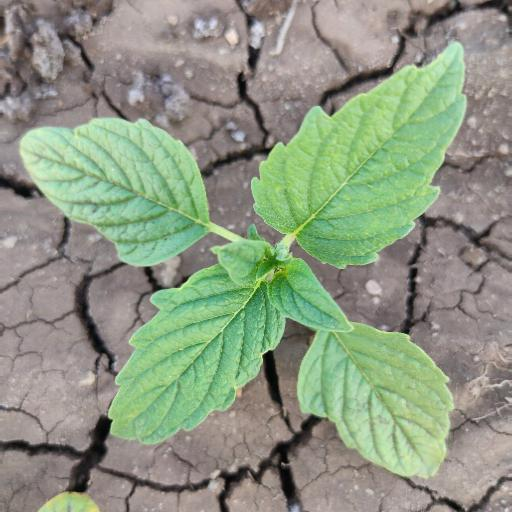crop: (18, 38, 475, 478)
